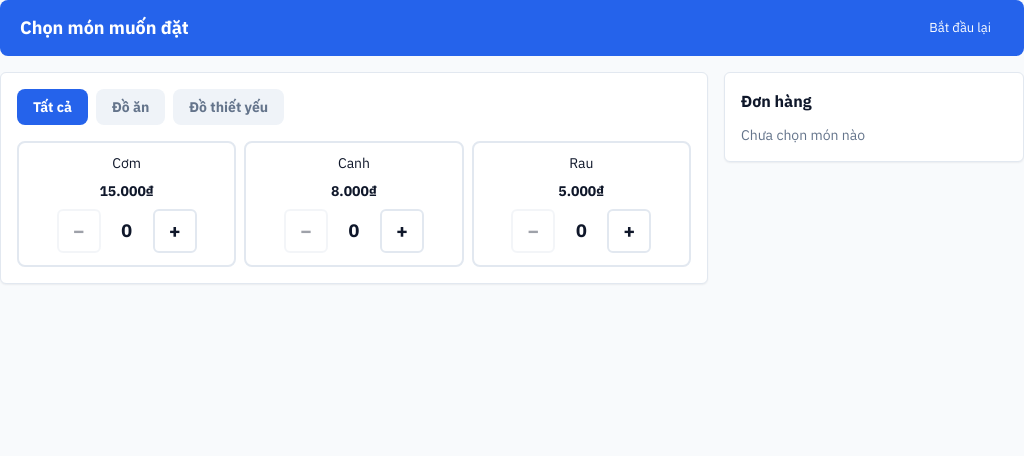
Test: MenuCalculator — bank tender gating › hides the bank tender when the canteen account is not configured
Click the button "+" below "15.000".
click(175, 230)  # box 153,208 -> 197,252
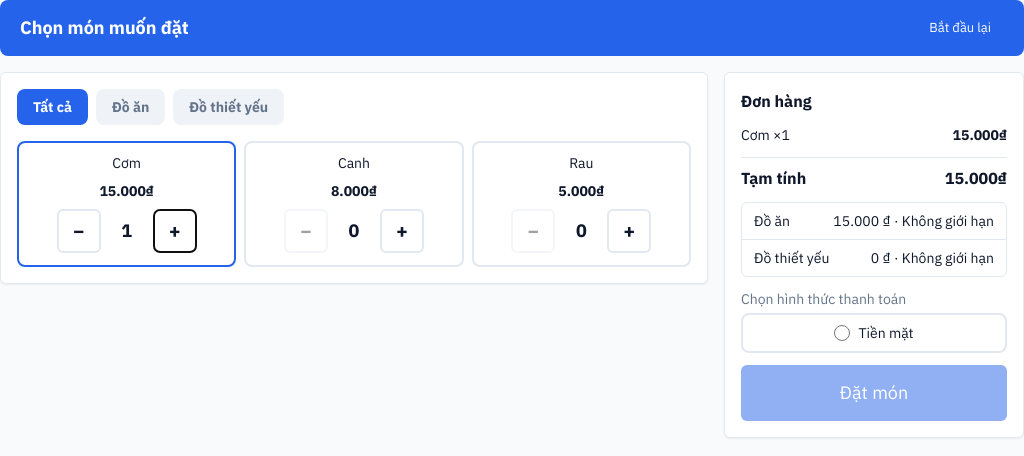
Check: the radio button labelled "Tiền mặt" is shown, box 834,325 -> 850,341
